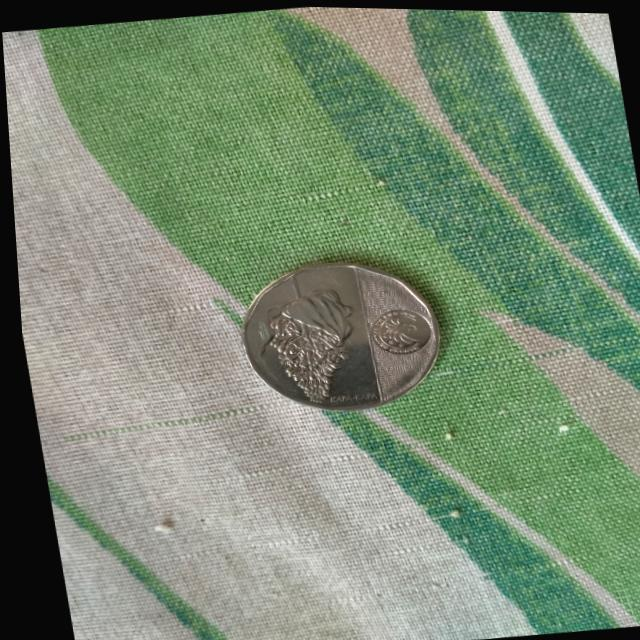10_New_Back: (237, 261, 378, 415)
